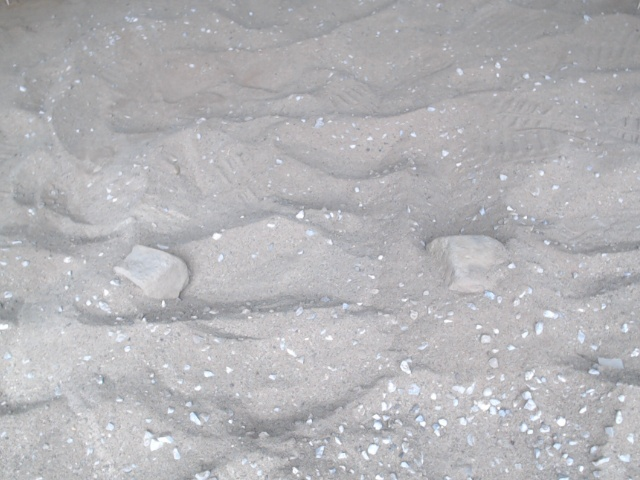rock: (418, 229, 514, 300), (108, 238, 197, 305)
